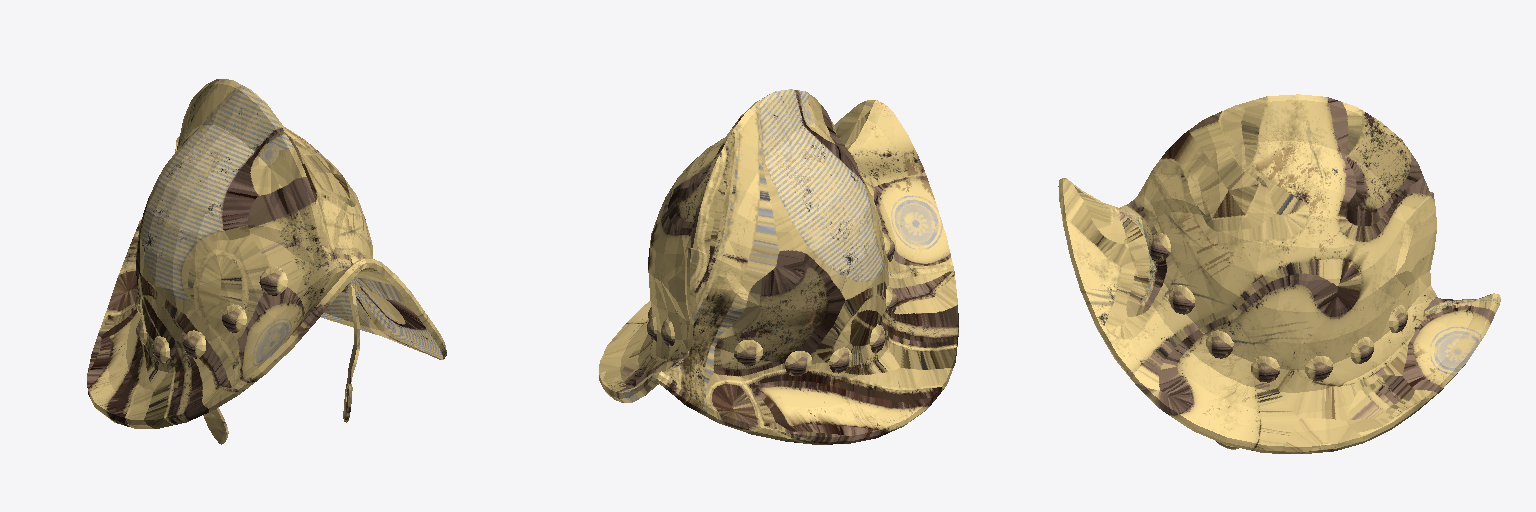
3 renders of one model, left to right at view 1: azimuth 30°, elevation 25°; view 2: azimuth 150°, elevation 25°; view 3: azimuth 270°, elevation 25°, orthographic.
Parts seen in each view (by area): view 1: Mesh_lod0_Mesh.002; view 2: Mesh_lod0_Mesh.002; view 3: Mesh_lod0_Mesh.002.
Part boxes in pixels (left/top/right/bottom): Mesh_lod0_Mesh.002: left=87, top=79, right=446, bottom=444; Mesh_lod0_Mesh.002: left=599, top=89, right=958, bottom=444; Mesh_lod0_Mesh.002: left=1058, top=94, right=1500, bottom=453.
Bounding box in the file's own units: 31.33 × 31.51 × 39.13.
1 materials, 1 textured.